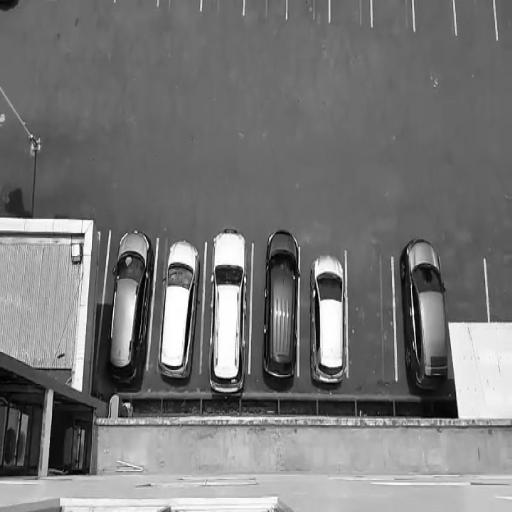Car: (106, 233, 158, 388), (400, 241, 450, 392), (260, 228, 304, 390), (209, 230, 251, 398), (157, 239, 202, 384), (309, 252, 351, 394)
Space Available: (345, 250, 398, 383), (441, 252, 489, 327), (485, 255, 512, 322), (411, 0, 457, 32), (457, 4, 497, 38), (371, 1, 414, 28), (286, 1, 330, 21), (247, 1, 288, 21), (330, 1, 372, 19), (201, 1, 245, 17), (495, 0, 511, 36), (158, 0, 200, 13), (113, 0, 158, 10)
